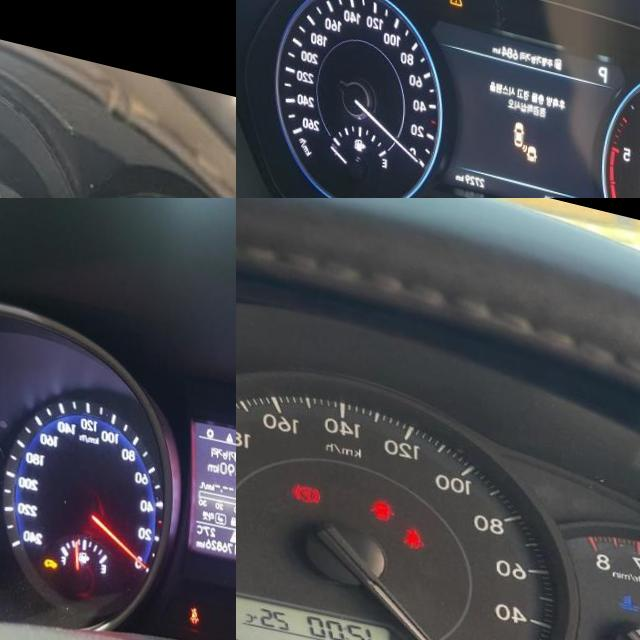LaneCenteringOff: (546, 177, 560, 190)
Seat Belt: (408, 507, 428, 532)
